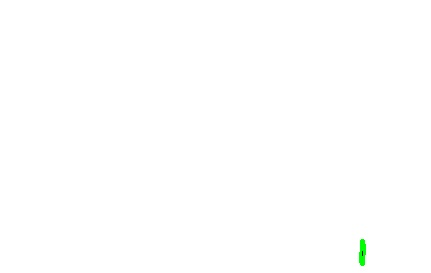line_segment: (360, 240, 365, 265)
